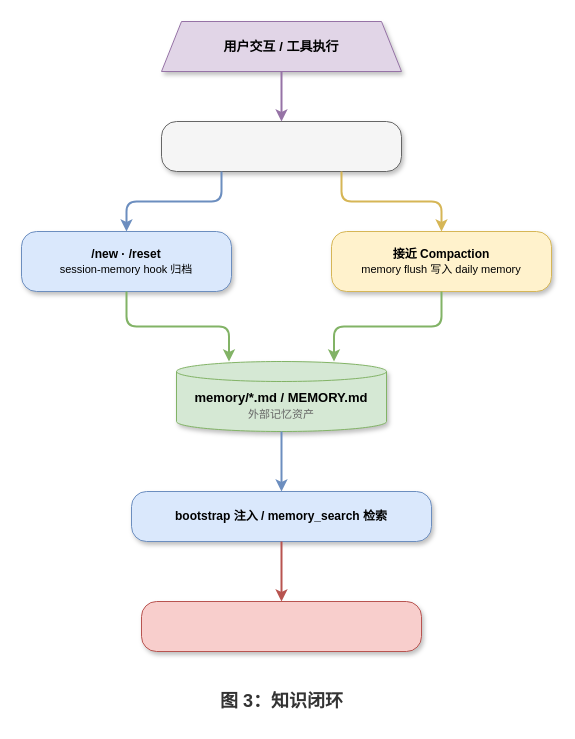
Some shapes in this 575 by 739 pixel diagram are drawn without their labels. Each missing label, with the centre of its shape:
Session Transcript 落盘: the point at 282,147
未来回答、判断、行动发生变化: the point at 282,627
